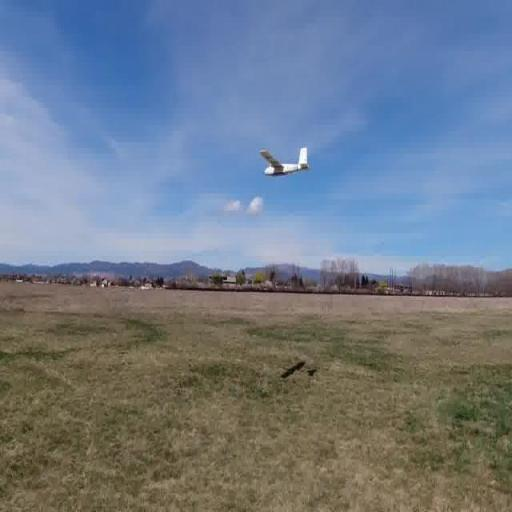uav: (258, 134, 312, 190)
